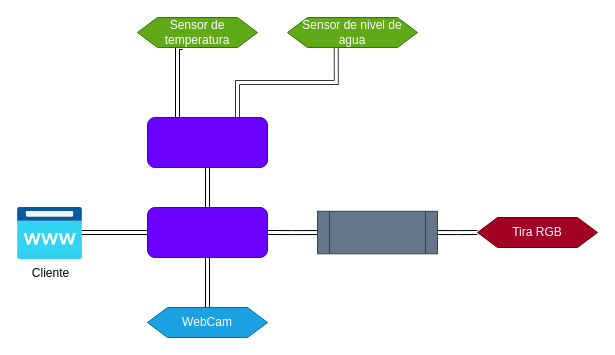
This 615x355 diagram has some shape labels left out. The shapes that lost their labels are listed below. From the top down, each one's box as (x1, y1, x2, y2) in pixels, then its label:
(146, 116, 268, 168): Raspberry Pico
(146, 206, 268, 258): Raspberry Pi 4
(316, 210, 438, 254): Modulo MOSFET con optoacoplador
